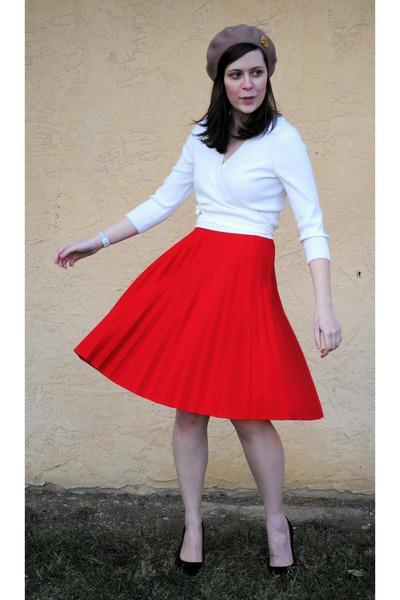hat: (207, 24, 276, 83)
jacket: (132, 118, 329, 261)
shoe: (168, 551, 294, 590)
skirt: (74, 227, 323, 419)
